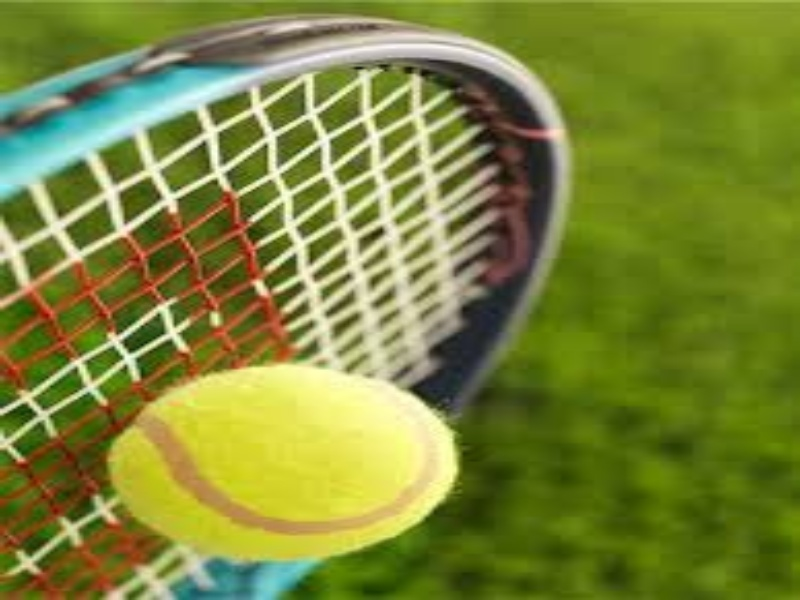tennis ball: (107, 349, 489, 552)
